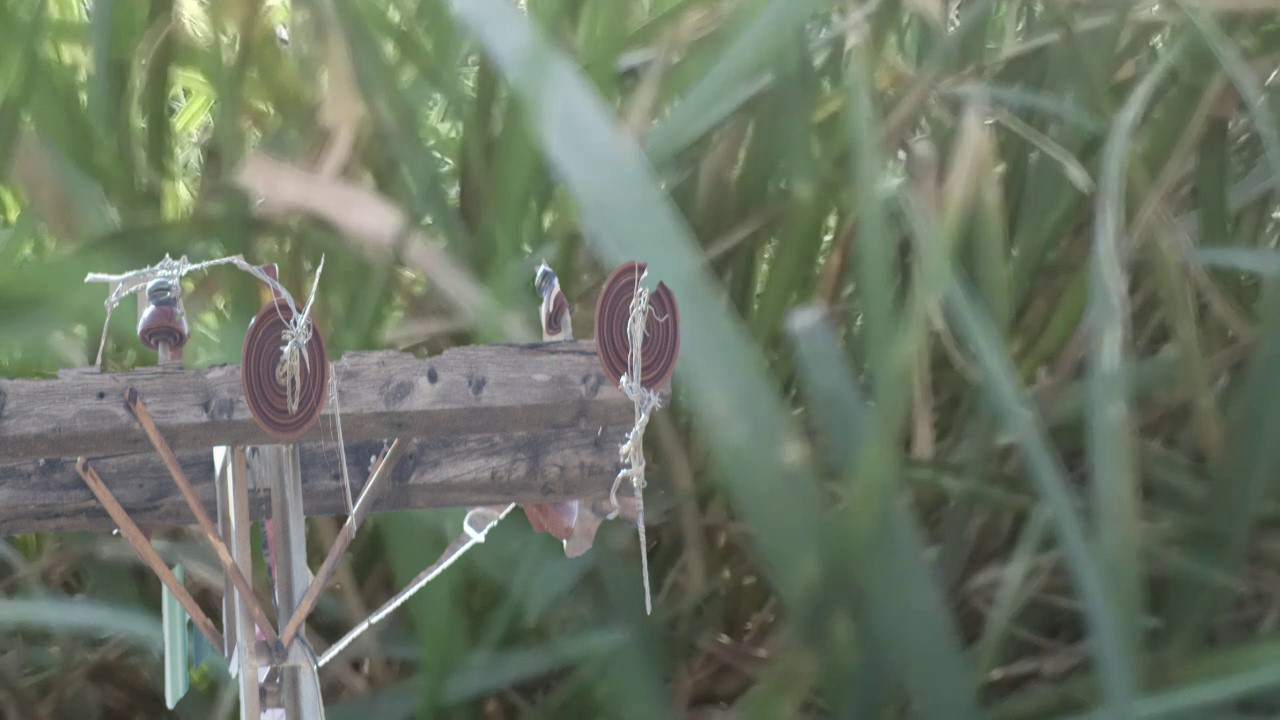defect_pin: (530, 256, 582, 344)
insulator_disc: (239, 296, 333, 441), (590, 253, 683, 395)
insulator_pin: (129, 272, 193, 356)
